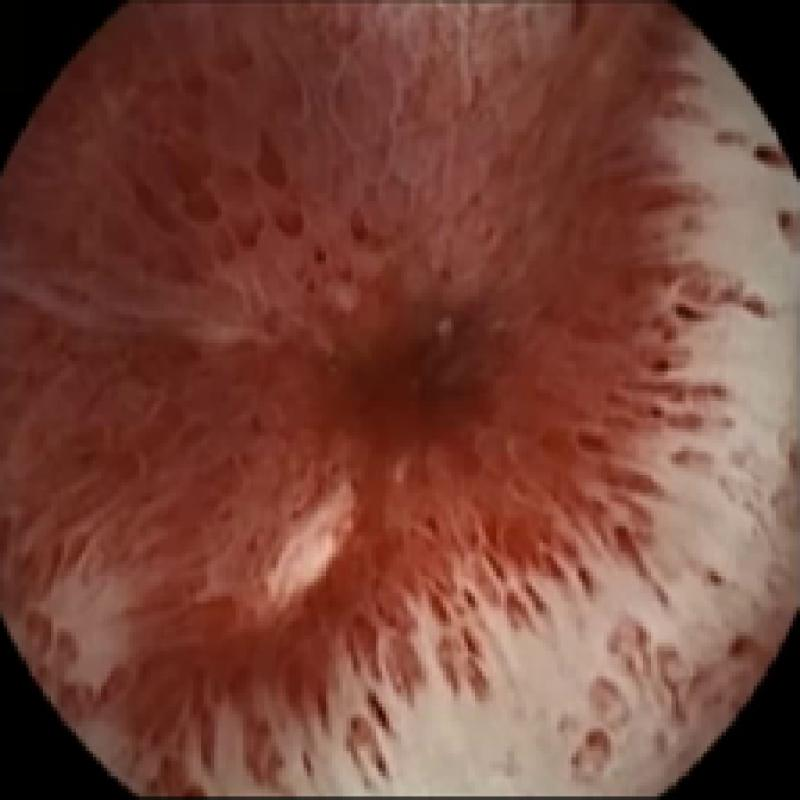bleeding: (0, 0, 689, 800)
